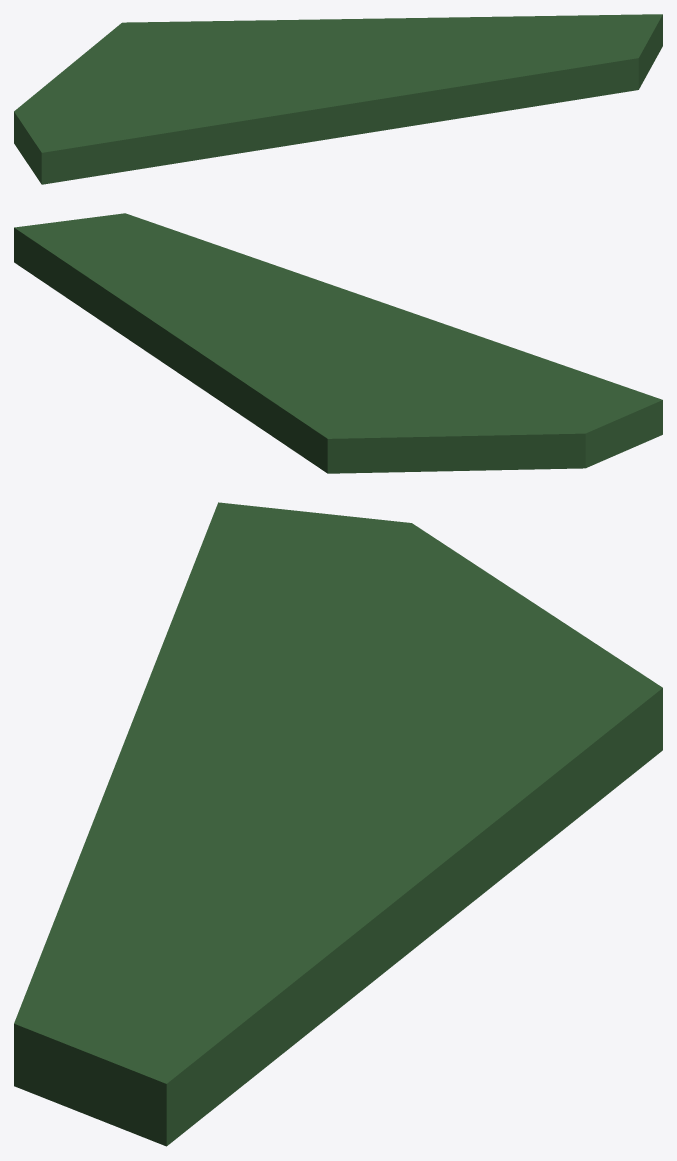
File: x_proval_00_71_1_rmstrd.fbx
The picture shows the model from 3 angles, top to bottom: view 1: azimuth 30°, elevation 25°; view 2: azimuth 150°, elevation 25°; view 3: azimuth 270°, elevation 25°; orthographic projection. The views are drawn at different scales.
Parts seen in each view (by area): view 1: x_proval_00_71_1_rmstrd1; view 2: x_proval_00_71_1_rmstrd1; view 3: x_proval_00_71_1_rmstrd1.
Boxes of the visible parts, x1,y1,x2,y2 form: x_proval_00_71_1_rmstrd1: [14, 14, 662, 184]; x_proval_00_71_1_rmstrd1: [14, 213, 662, 473]; x_proval_00_71_1_rmstrd1: [14, 502, 662, 1146].
Bounding box in the file's own units: 3.99 × 0.2 × 1.88.
